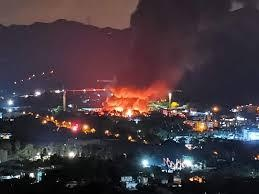fire: (43, 114, 96, 133)
